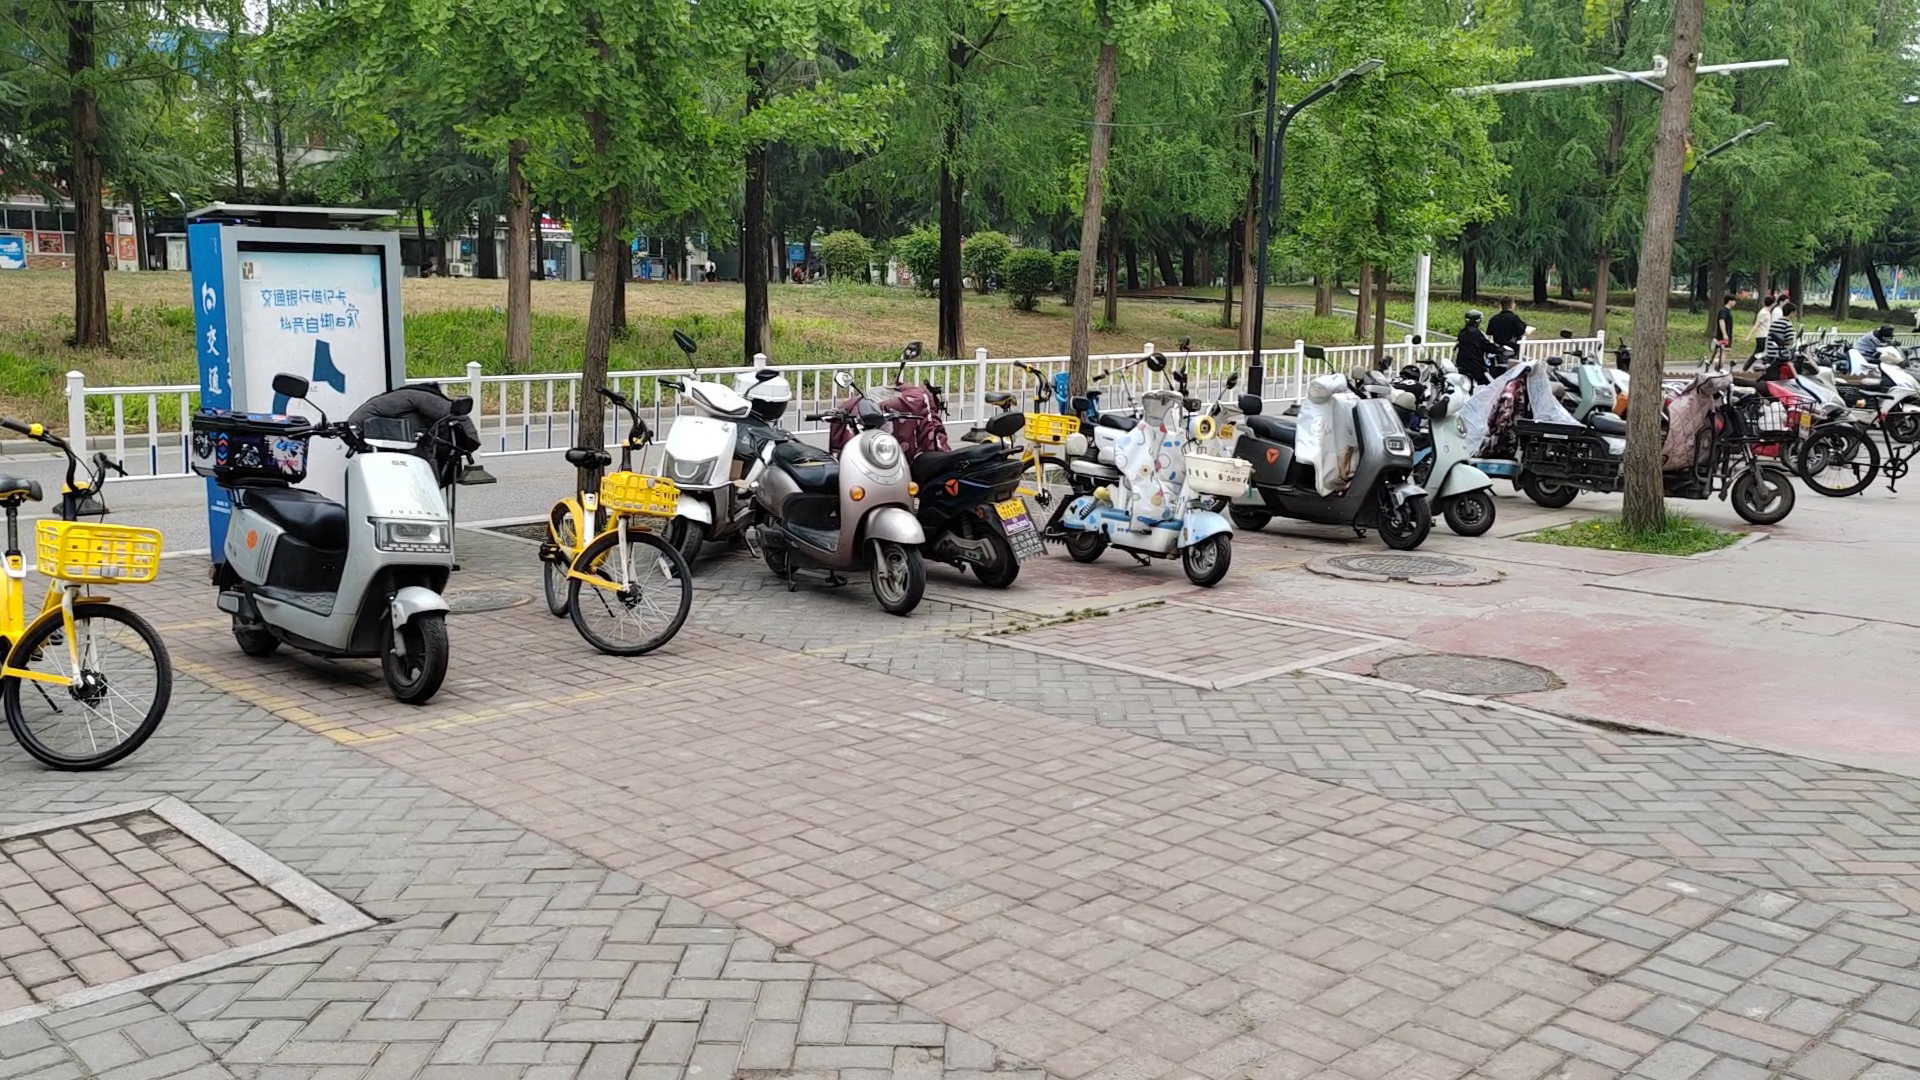others: (179, 392, 480, 698), (833, 345, 1015, 609), (1523, 386, 1785, 531), (1232, 377, 1433, 550), (760, 396, 913, 621), (1076, 402, 1251, 582), (669, 334, 786, 564)
shared_bike_meituan: (4, 389, 165, 796), (529, 384, 690, 659), (961, 361, 1095, 534)
